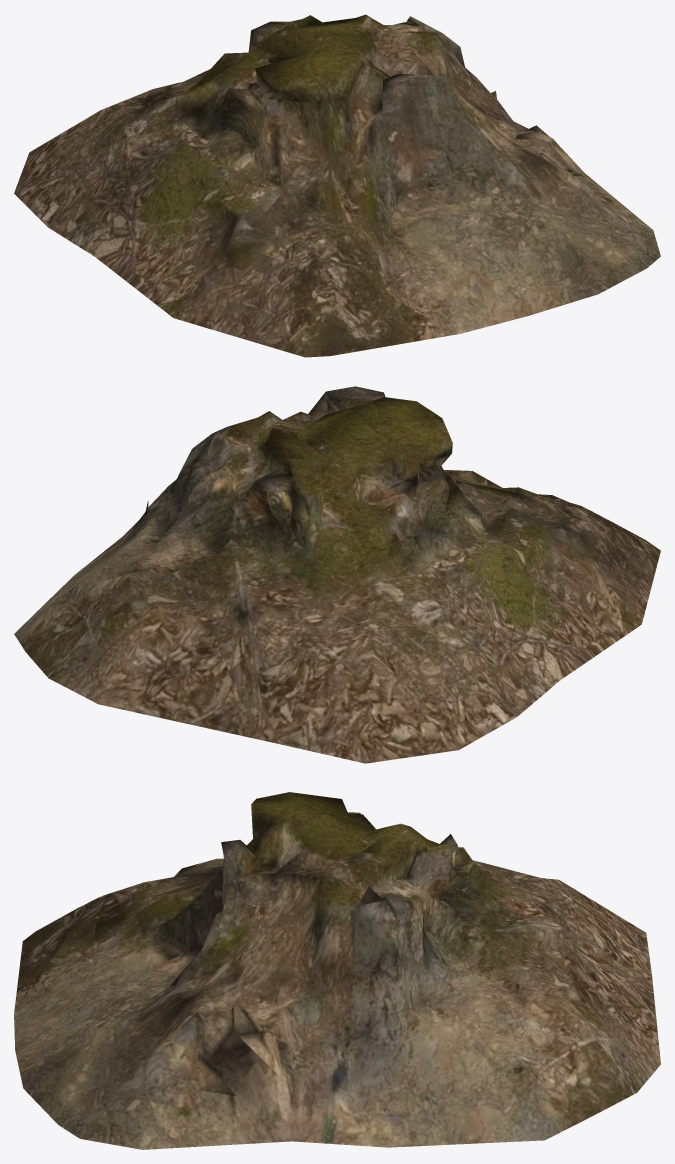
File: stump.glb
3 views of the same model, one above another, from view 1: azimuth 30°, elevation 25°; view 2: azimuth 150°, elevation 25°; view 3: azimuth 270°, elevation 25° (orthographic). The views are drawn at different scales.
Visible parts, largest first — view 1: tree_stump_01; view 2: tree_stump_01; view 3: tree_stump_01.
Boxes of the visible parts, bbox=[...] form: tree_stump_01: bbox=[14, 14, 660, 357]; tree_stump_01: bbox=[14, 386, 660, 763]; tree_stump_01: bbox=[14, 792, 660, 1149].
Size of the model in its own units: 1.24 by 0.4907 by 1.39.
Materials: 1 (1 with a texture image).
